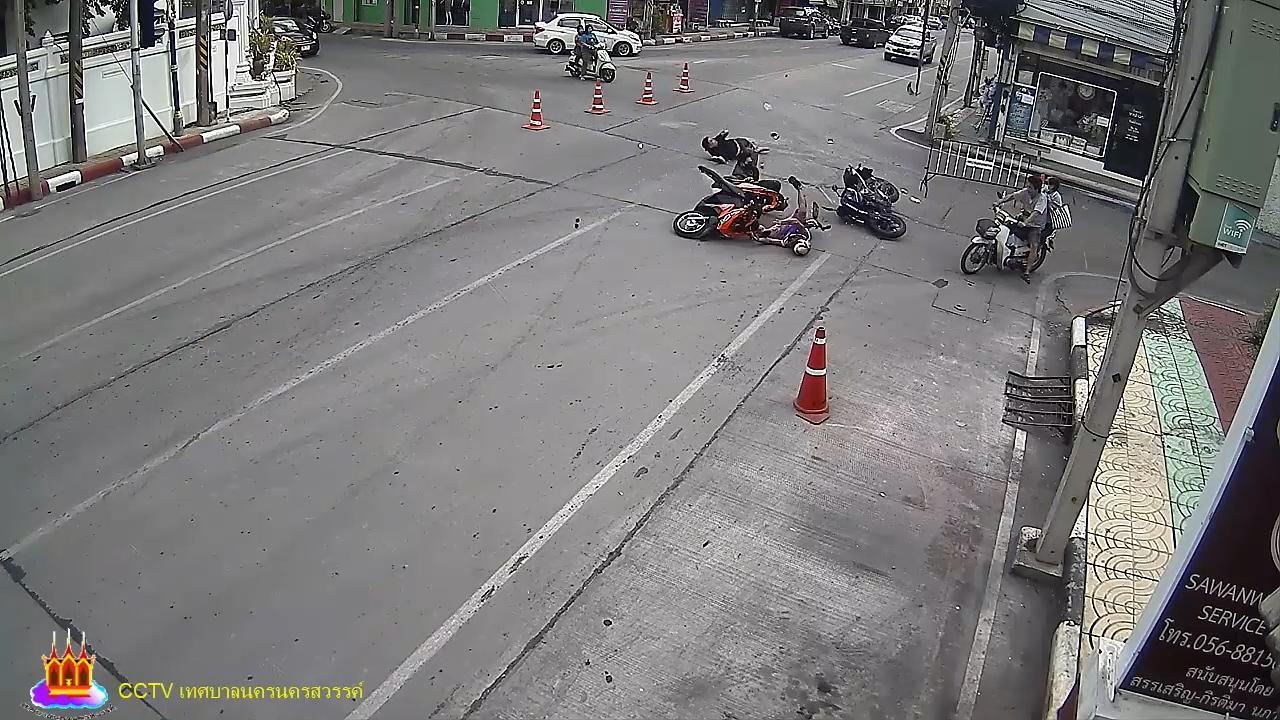accident: (755, 176, 813, 257), (701, 127, 771, 163)
